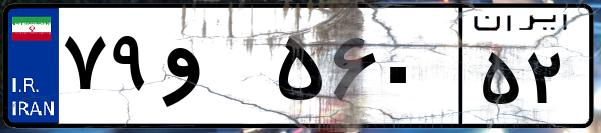0: (385, 28, 445, 110)
2: (525, 38, 570, 115)
5: (270, 28, 330, 110), (475, 38, 525, 113)
6: (330, 28, 385, 110)
7: (57, 26, 110, 100)
9: (110, 28, 158, 98)
و: (158, 20, 270, 120)
